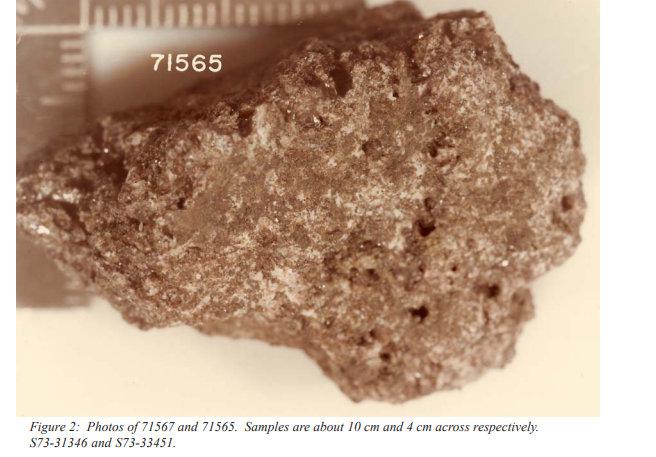Basalt: (46, 83, 620, 399), (176, 139, 485, 317)
